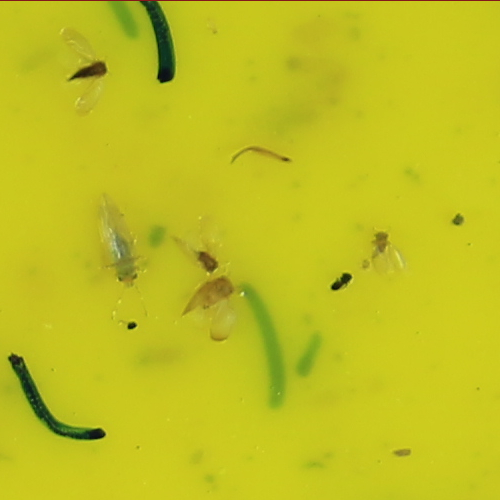psylla: (184, 274, 237, 317), (106, 228, 142, 291), (67, 57, 111, 86), (192, 247, 226, 272), (371, 231, 393, 255)
